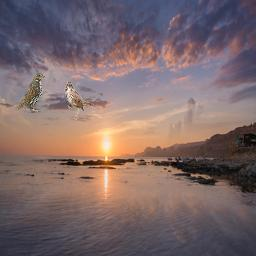Sparrow: (64, 81, 99, 121), (12, 73, 45, 113)
